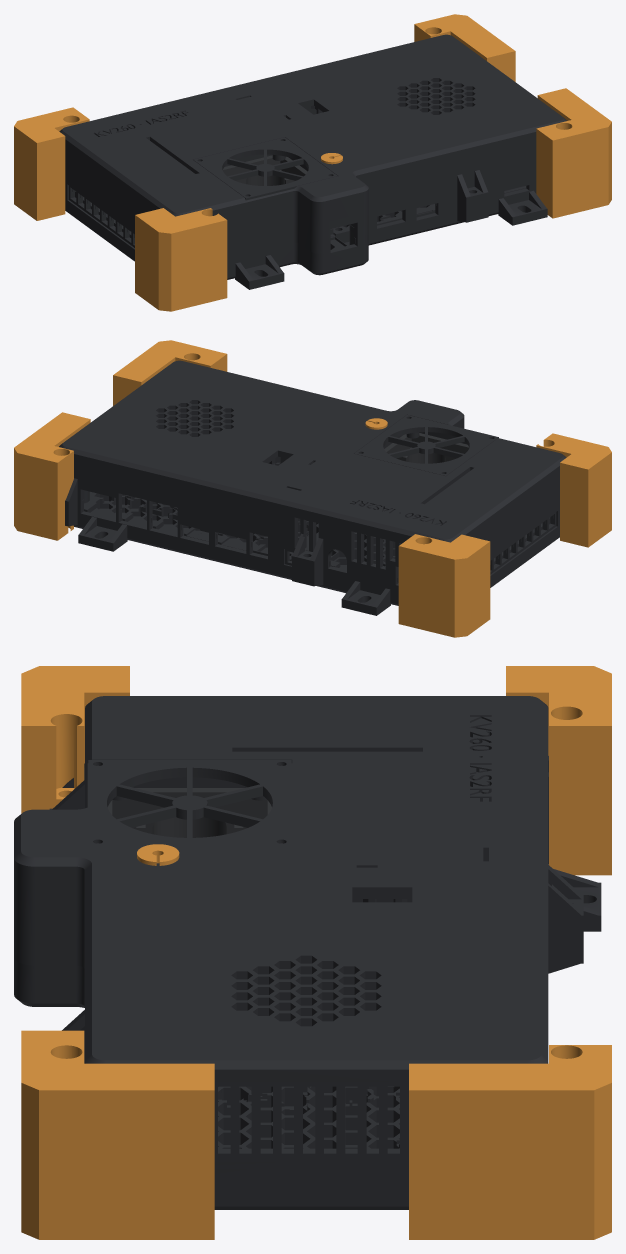
File: enclosure.glb
3 views of the same model, one above another, from view 1: azimuth 30°, elevation 25°; view 2: azimuth 150°, elevation 25°; view 3: azimuth 270°, elevation 25° (orthographic). The views are drawn at different scales.
Parts seen in each view (by area): view 1: CASE_LID, CASE_BOTTOM, CASE_BUMPER_LF, CASE_BUMPER_RF, CASE_BUMPER_LB, CASE_FILTER_FRAME, CASE_BUMPER_RB, FAN2_5015; view 2: CASE_LID, CASE_BOTTOM, CASE_BUMPER_LB, CASE_BUMPER_RB, CASE_BUMPER_LF, CASE_FILTER_FRAME, CASE_BUMPER_RF, FAN2_5015; view 3: CASE_LID, CASE_BUMPER_RB, CASE_BUMPER_RF, CASE_BOTTOM, CASE_BUMPER_LB, CASE_FILTER_FRAME, CASE_BUMPER_LF, FAN2_5015, CASE_GROMMET.
Boxes of the visible parts, left/top/right/bottom form: CASE_LID: left=59, top=34, right=566, bottom=258; CASE_BOTTOM: left=65, top=183, right=547, bottom=289; CASE_BUMPER_LF: left=135, top=208, right=227, bottom=311; CASE_BUMPER_RF: left=536, top=88, right=611, bottom=218; CASE_BUMPER_LB: left=14, top=107, right=89, bottom=220; CASE_FILTER_FRAME: left=193, top=137, right=337, bottom=200; CASE_BUMPER_RB: left=414, top=14, right=515, bottom=81; FAN2_5015: left=222, top=155, right=307, bottom=185; CASE_LID: left=59, top=360, right=566, bottom=583; CASE_BOTTOM: left=65, top=460, right=559, bottom=615; CASE_BUMPER_LB: left=398, top=534, right=490, bottom=637; CASE_BUMPER_RB: left=14, top=412, right=90, bottom=540; CASE_BUMPER_LF: left=536, top=433, right=611, bottom=547; CASE_FILTER_FRAME: left=354, top=415, right=498, bottom=475; CASE_BUMPER_RF: left=113, top=340, right=227, bottom=405; FAN2_5015: left=384, top=433, right=469, bottom=463; CASE_LID: left=14, top=696, right=583, bottom=1168; CASE_BUMPER_RB: left=409, top=1045, right=611, bottom=1239; CASE_BUMPER_RF: left=21, top=1030, right=214, bottom=1239; CASE_BOTTOM: left=14, top=829, right=601, bottom=1209; CASE_BUMPER_LB: left=506, top=666, right=611, bottom=875; CASE_FILTER_FRAME: left=88, top=760, right=291, bottom=845; CASE_BUMPER_LF: left=21, top=666, right=129, bottom=813; FAN2_5015: left=107, top=788, right=271, bottom=837; CASE_GROMMET: left=137, top=844, right=179, bottom=865.
Bounding box in the file's own units: 0.2841 × 0.0481 × 0.1693.
